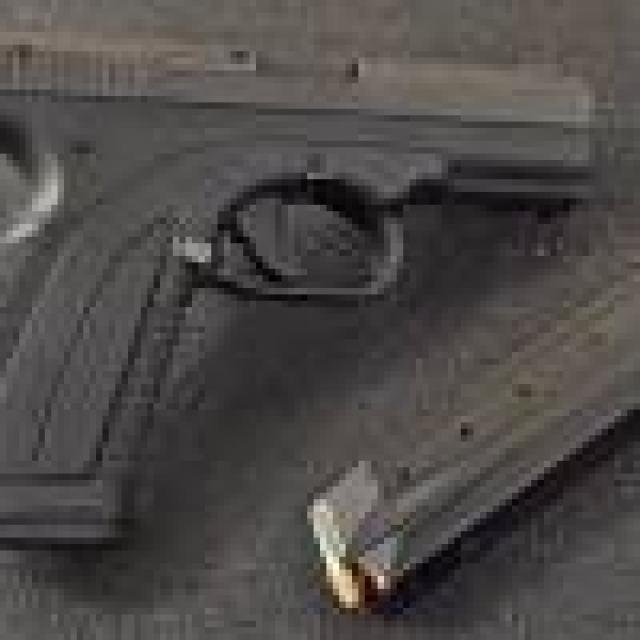Gun: (0, 13, 595, 563)
